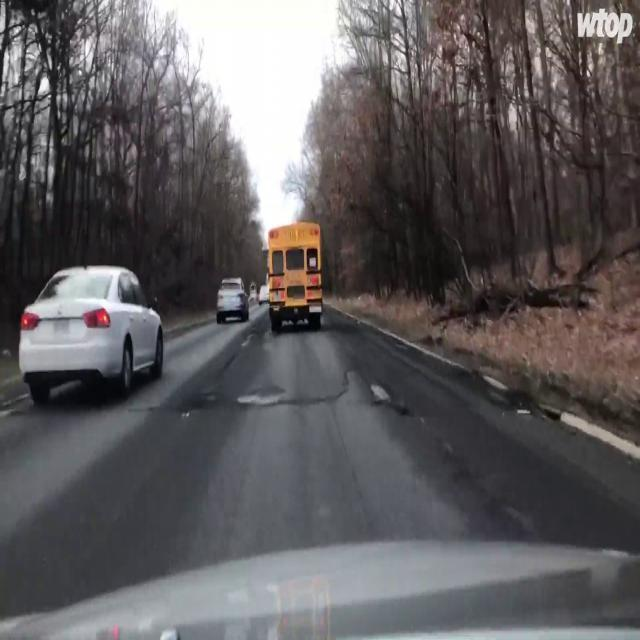pothole: (370, 381, 393, 401), (240, 394, 279, 405), (242, 332, 258, 347)
